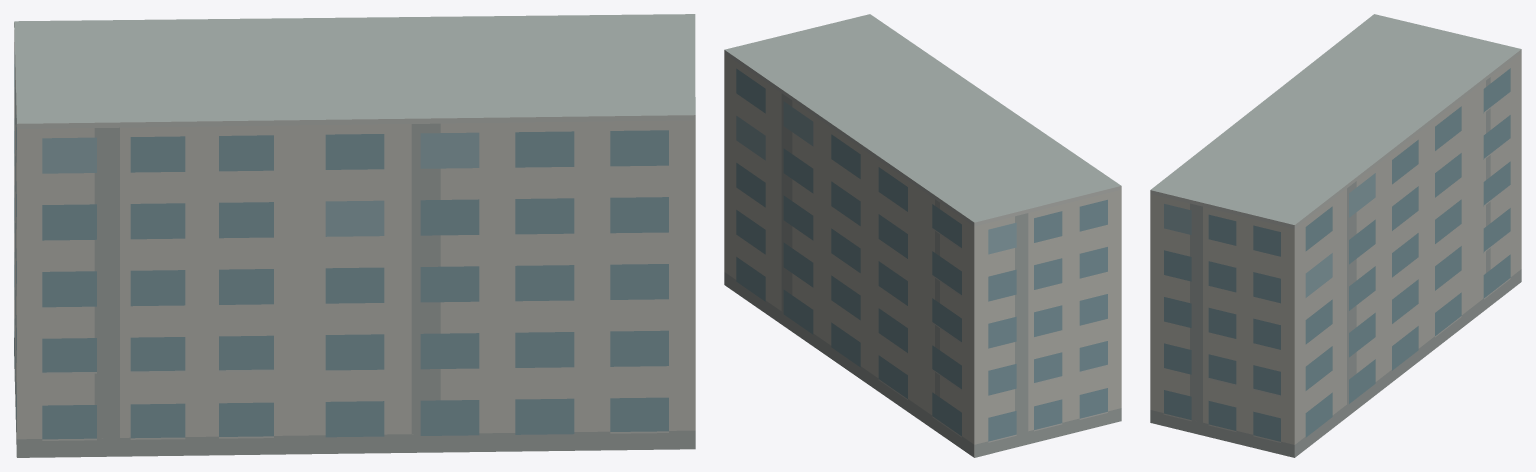
The model's file is survey-upis-32749146.glb.
3 views of the same model, side by side, from view 1: azimuth 30°, elevation 25°; view 2: azimuth 150°, elevation 25°; view 3: azimuth 270°, elevation 25° (orthographic). The views are drawn at different scales.
Visible parts, largest first — view 1: survey-upis-32749146.tmp; view 2: survey-upis-32749146.tmp; view 3: survey-upis-32749146.tmp.
Part boxes in pixels (x1,y1,x2,y2): survey-upis-32749146.tmp: (14, 14, 695, 457); survey-upis-32749146.tmp: (724, 14, 1121, 457); survey-upis-32749146.tmp: (1150, 14, 1521, 457).
Bounding box in the file's own units: 29.68 × 15.25 × 22.07.
